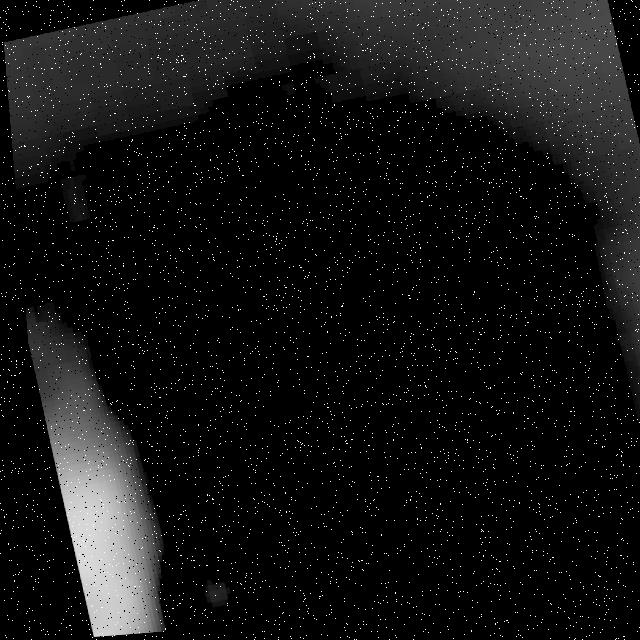person: (22, 320, 190, 640)
